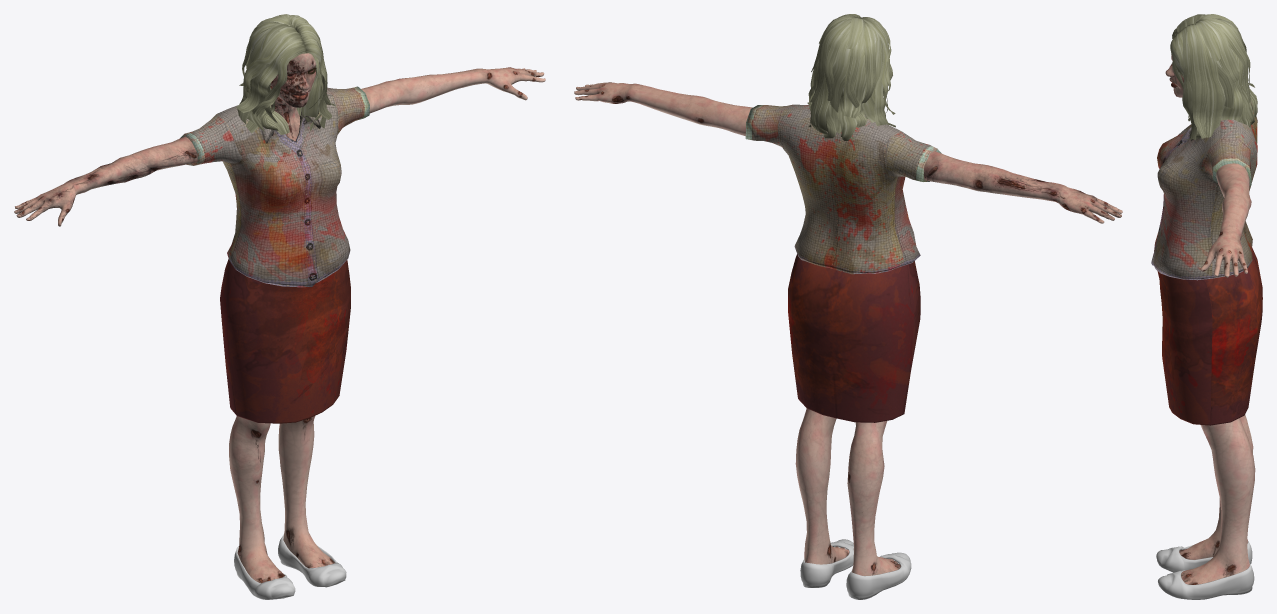
The model's file is female zombie.obj.
3 renders of one model, left to right at view 1: azimuth 30°, elevation 25°; view 2: azimuth 150°, elevation 25°; view 3: azimuth 270°, elevation 25°, orthographic.
Visible parts, largest first — view 1: Tops, Body, Bottoms, Hair, Shoes; view 2: Tops, Bottoms, Body, Hair, Shoes; view 3: Bottoms, Tops, Body, Hair, Shoes.
Part boxes in pixels (bbox=[...]): Tops: bbox=[180, 86, 369, 287]; Body: bbox=[14, 53, 545, 583]; Bottoms: bbox=[220, 259, 350, 423]; Hair: bbox=[236, 14, 335, 134]; Shoes: bbox=[234, 534, 346, 599]; Tops: bbox=[745, 104, 941, 274]; Bottoms: bbox=[788, 254, 920, 422]; Body: bbox=[574, 82, 1122, 575]; Hair: bbox=[807, 14, 895, 140]; Shoes: bbox=[800, 539, 911, 599]; Bottoms: bbox=[1157, 247, 1262, 425]; Tops: bbox=[1151, 100, 1257, 280]; Body: bbox=[1165, 54, 1255, 584]; Hair: bbox=[1170, 14, 1257, 139]; Shoes: bbox=[1156, 541, 1254, 599].
Bounding box in the file's own units: 180 × 180 × 32.41.
